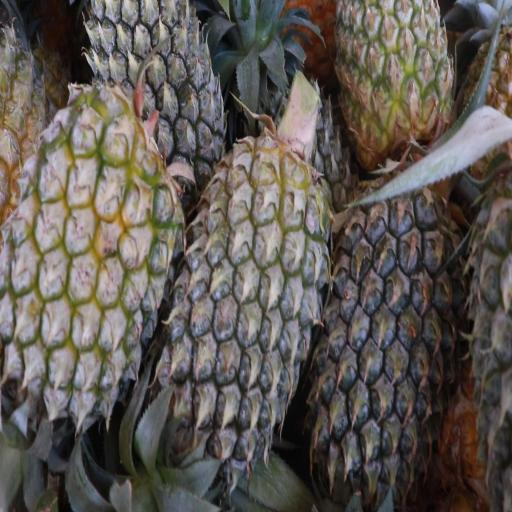------------------------------: (6, 91, 172, 417), (334, 0, 453, 156)
